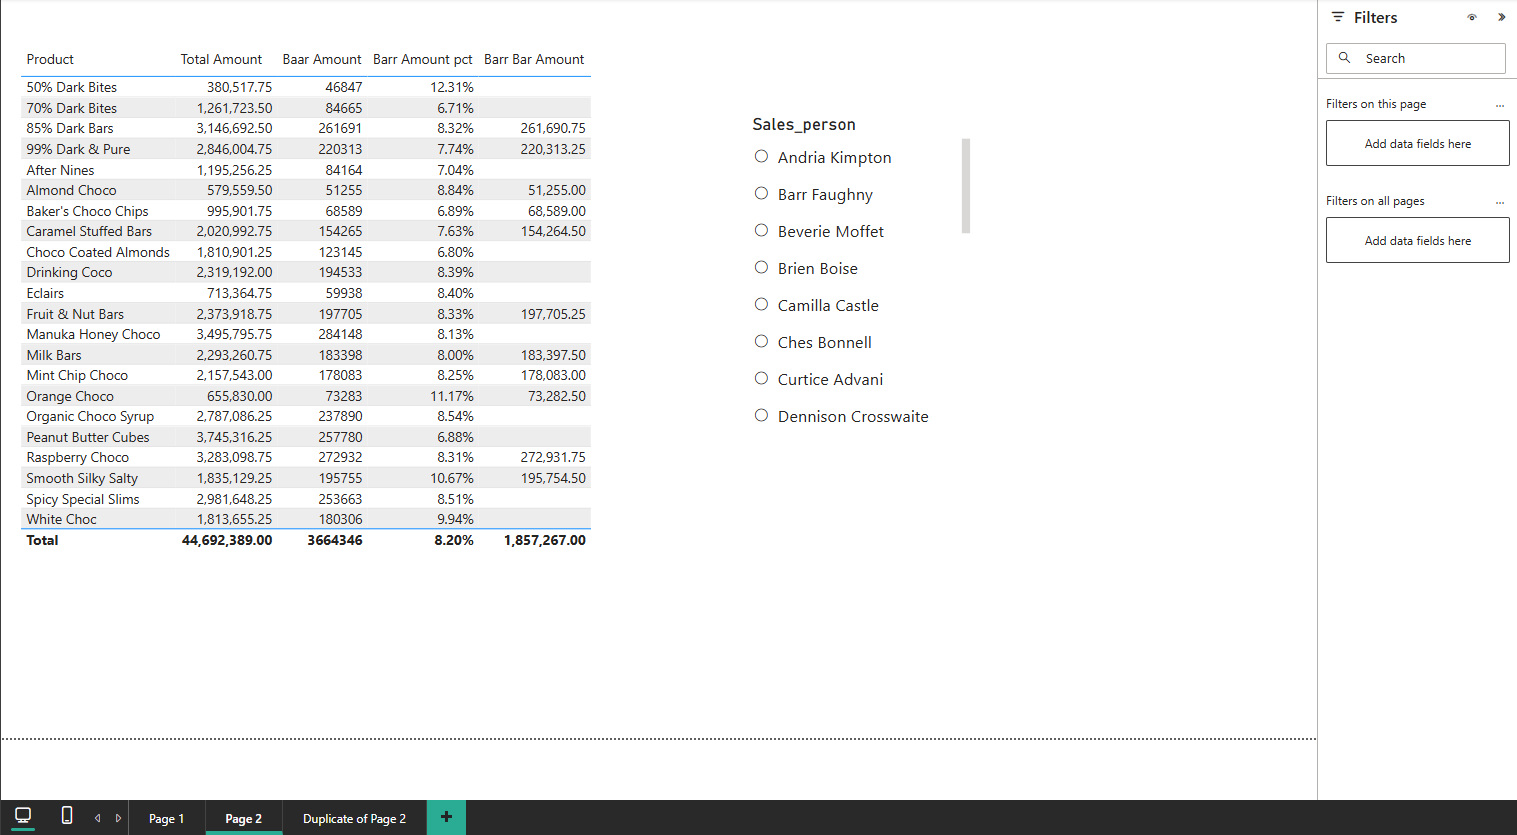

The dashboard page shown, as its layout file describes it:
{"tool":"powerbi","page":{"name":"Page 2","canvas":[1280,720],"ordinal":1},"visuals":[{"type":"tableEx","fields":{"Values":["products.Product","Measure.Total Amount","Measure.Baar Amount","Measure.Barr Amount pct","Measure.Barr Bar Amount"]},"box":[13.6,43.8,584.6,526.2],"z":0},{"type":"listSlicer","fields":{"Values":["people.Sales_person"]},"box":[725.6,112.8,222.7,319],"z":1000}]}

Visuals, with their boxes on the page's 1280x720 design canvas (x1, y1, x2, y2). These are canvas units, not pixel positions in the 1517x835 screenshot, which may show the page scaled, cropped or inside an application window:
tableEx - products.Product x Measure.Total Amount: 14 44 598 570
listSlicer - people.Sales_person: 726 113 948 432
